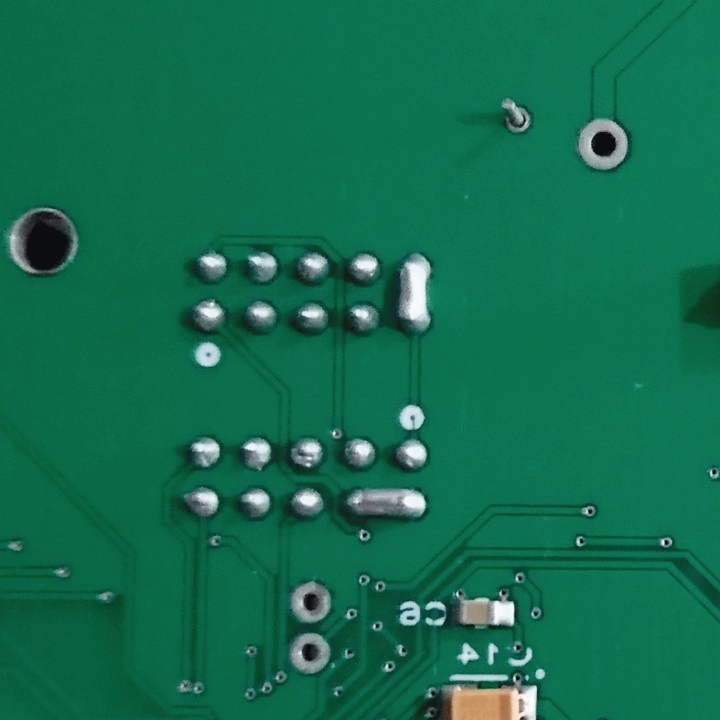F: (573, 118, 633, 174), (289, 576, 336, 627), (288, 629, 334, 679), (494, 94, 534, 134)
P: (391, 249, 436, 340), (342, 483, 430, 526)
